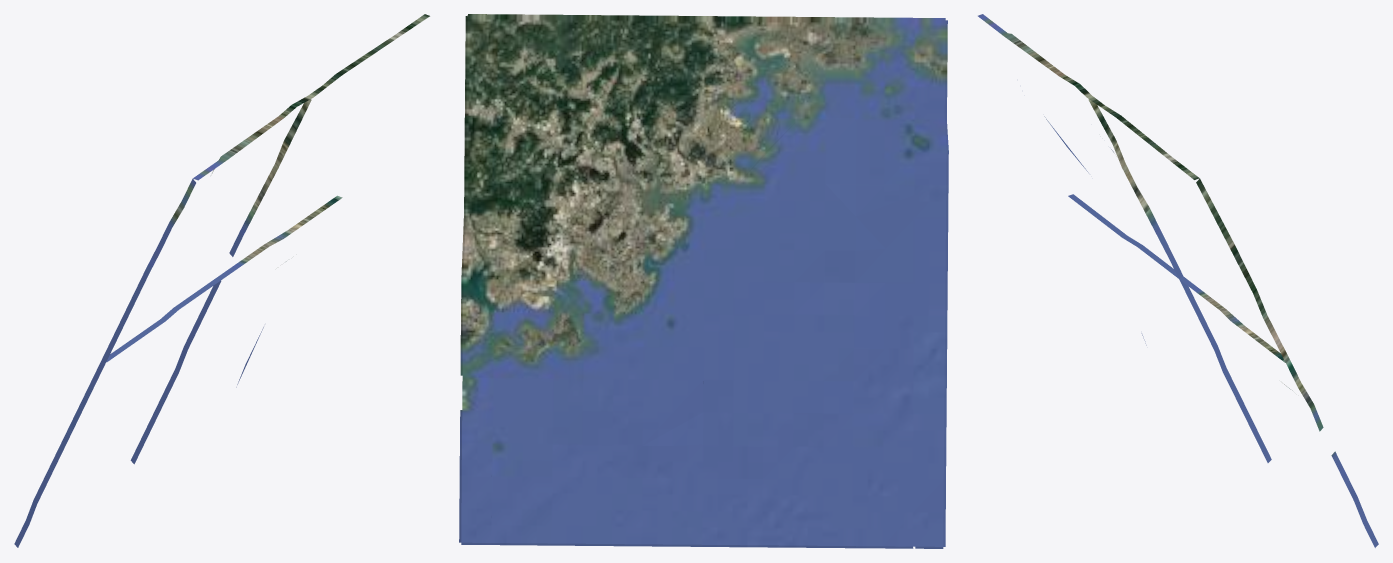
3 views of the same model, side by side, from view 1: azimuth 30°, elevation 25°; view 2: azimuth 150°, elevation 25°; view 3: azimuth 270°, elevation 25° (orthographic). The views are drawn at different scales.
Size of the model in its own units: 157549 by 144213 by 127733.
Materials: 1 (1 with a texture image).
